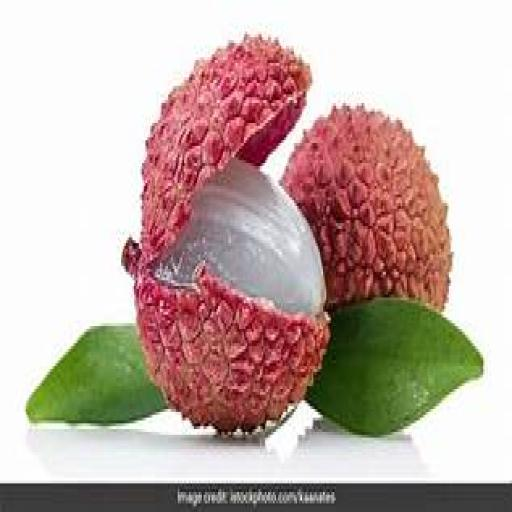lychee: (123, 38, 329, 431), (283, 106, 452, 308)
